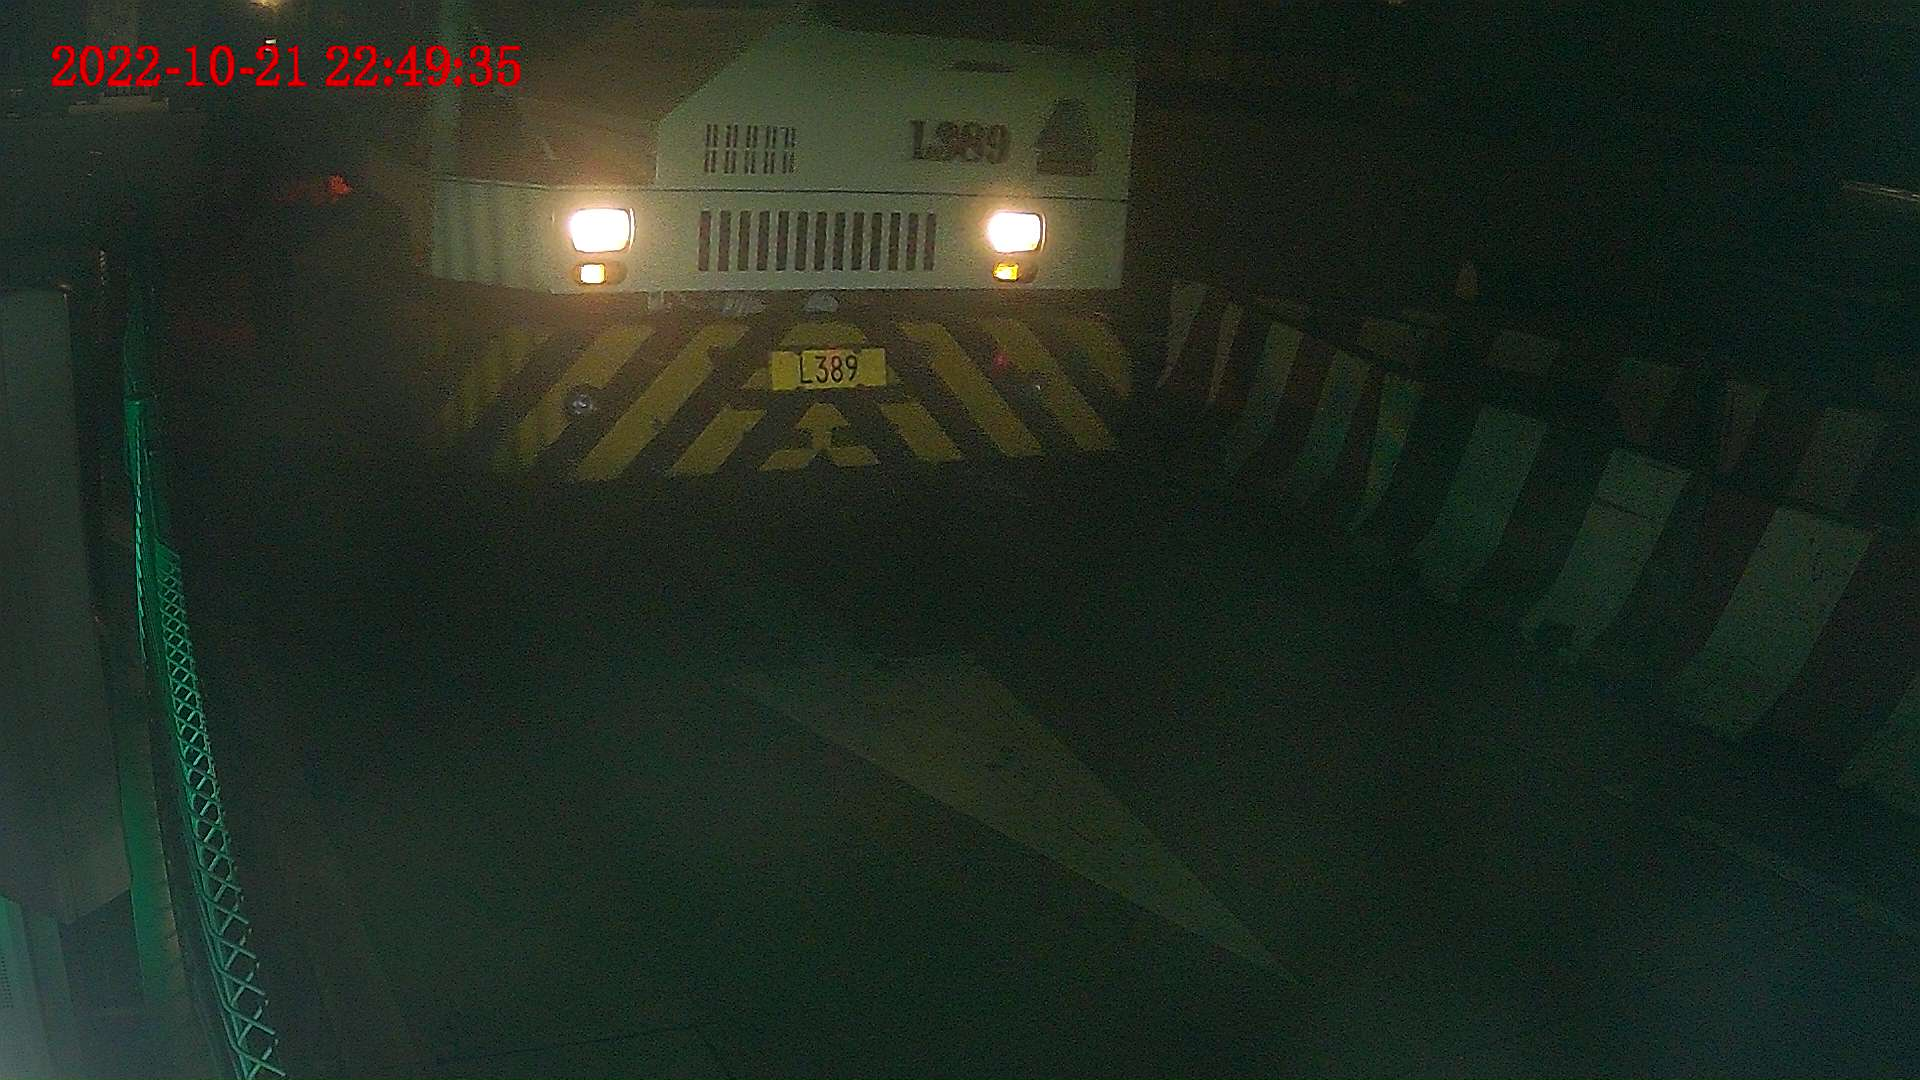head: (316, 1, 1138, 513)
plate: (771, 349, 889, 394)
